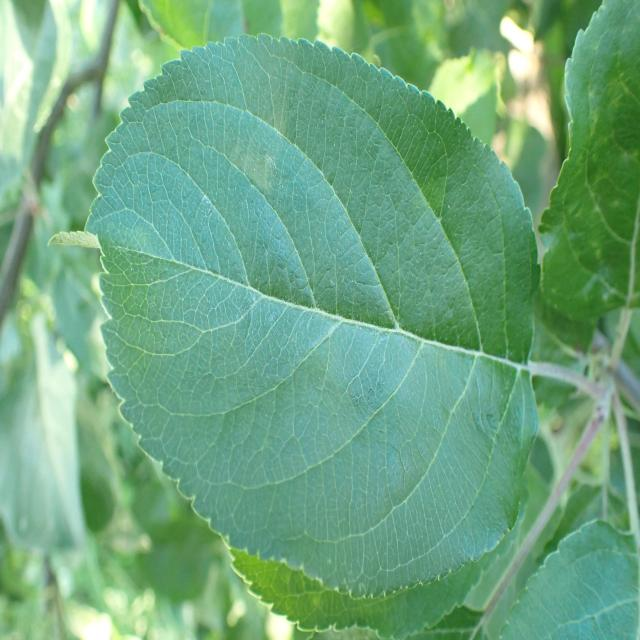healthy: (48, 32, 540, 600), (537, 0, 640, 350), (476, 518, 640, 640)
